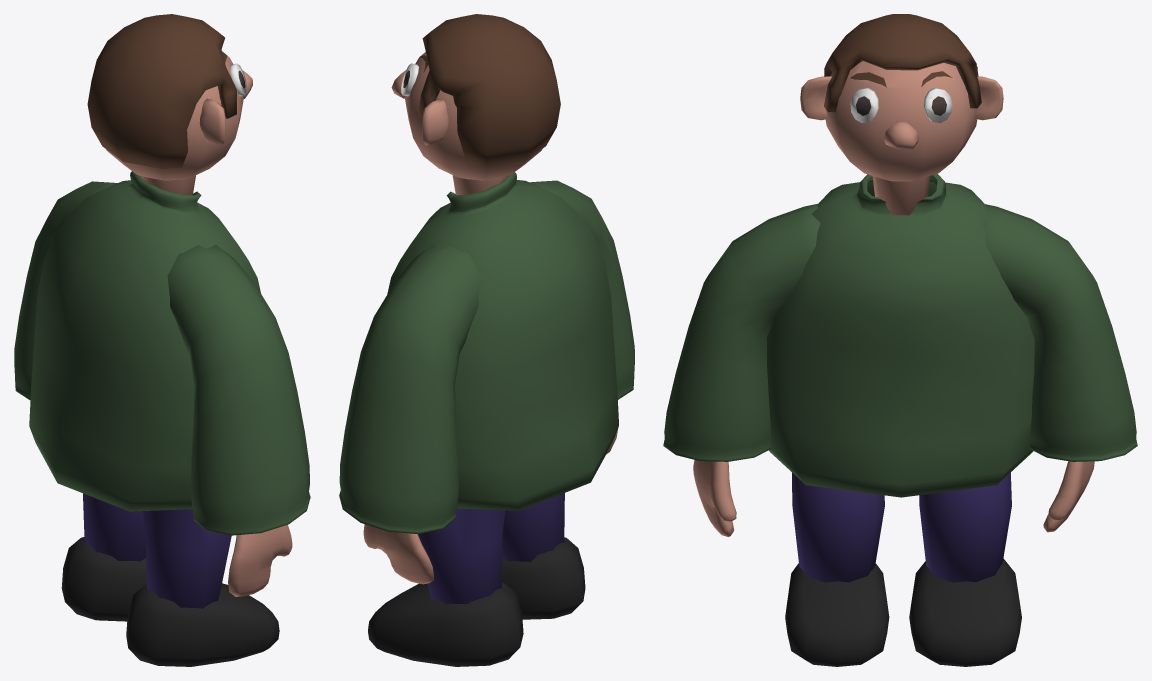
The model's file is AlumnoTelematica.glb.
3 renders of one model, left to right at view 1: azimuth 30°, elevation 25°; view 2: azimuth 150°, elevation 25°; view 3: azimuth 270°, elevation 25°, orthographic.
Visible parts, largest first — view 1: Cube_3, Cylinder.001_4, Sphere.002_16, Cube.001_5, Cylinder.003_11, Cube.002_6, Cylinder.002_9, Cylinder.004_12, Sphere_17, Cube.003_7, Cube.005_14, Cylinder_10; view 2: Cube_3, Cylinder.002_9, Sphere.002_16, Cube.002_6, Cylinder.004_12, Cube.001_5, Cylinder.001_4, Sphere_17, Cylinder.003_11, Cube.004_8, Cube.006_15, Cylinder_10; view 3: Cube_3, Cylinder.001_4, Cylinder.002_9, Sphere_17, Cube.002_6, Cube.001_5, Cylinder.003_11, Cylinder.004_12, Sphere.002_16, Cube.003_7, Cube.004_8, Sphere.005_2 (+4 smaller).
Boxes of the visible parts, <box> form: Cube_3: <box>29,171,260,511</box>; Cylinder.001_4: <box>167,245,310,535</box>; Sphere.002_16: <box>87,14,236,169</box>; Cube.001_5: <box>126,583,279,666</box>; Cylinder.003_11: <box>143,509,231,608</box>; Cube.002_6: <box>61,537,146,621</box>; Cylinder.002_9: <box>14,181,117,400</box>; Cylinder.004_12: <box>83,493,145,561</box>; Sphere_17: <box>106,51,243,180</box>; Cube.003_7: <box>228,524,292,596</box>; Cube.005_14: <box>199,98,225,145</box>; Cylinder_10: <box>141,175,195,194</box>; Cube_3: <box>387,172,618,510</box>; Cylinder.002_9: <box>339,244,480,534</box>; Sphere.002_16: <box>418,14,560,168</box>; Cube.002_6: <box>368,582,523,666</box>; Cylinder.004_12: <box>418,508,505,603</box>; Cube.001_5: <box>502,537,585,619</box>; Cylinder.001_4: <box>530,180,634,399</box>; Sphere_17: <box>404,52,542,180</box>; Cylinder.003_11: <box>502,493,564,561</box>; Cube.004_8: <box>363,524,434,584</box>; Cube.006_15: <box>422,98,448,145</box>; Cylinder_10: <box>452,175,507,195</box>; Cube_3: <box>766,173,1034,497</box>; Cylinder.001_4: <box>663,203,820,461</box>; Cylinder.002_9: <box>982,204,1137,461</box>; Sphere_17: <box>825,61,977,181</box>; Cube.002_6: <box>909,558,1021,666</box>; Cube.001_5: <box>785,563,889,666</box>; Cylinder.003_11: <box>792,472,884,582</box>; Cylinder.004_12: <box>919,472,1011,582</box>; Sphere.002_16: <box>824,14,981,112</box>; Cube.003_7: <box>693,460,736,537</box>; Cube.004_8: <box>1043,461,1094,532</box>; Sphere.005_2: <box>850,88,952,123</box>.
Bounding box in the file's own units: 3.42 × 10.22 × 7.08.
